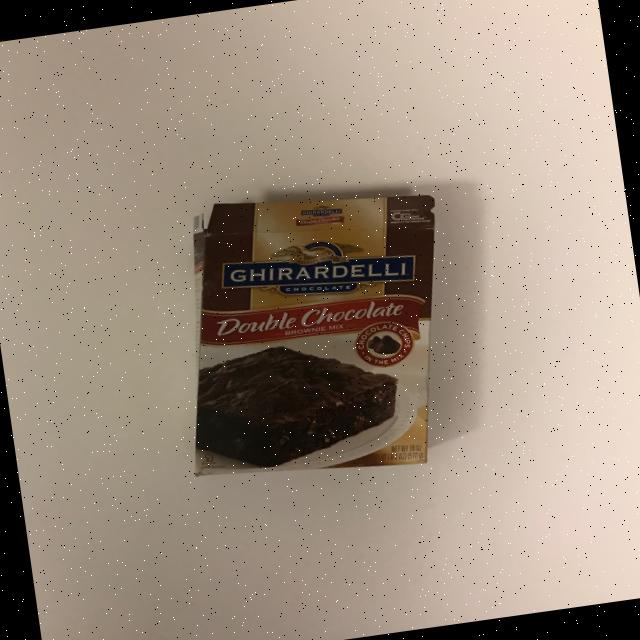paper: (157, 172, 470, 494)
